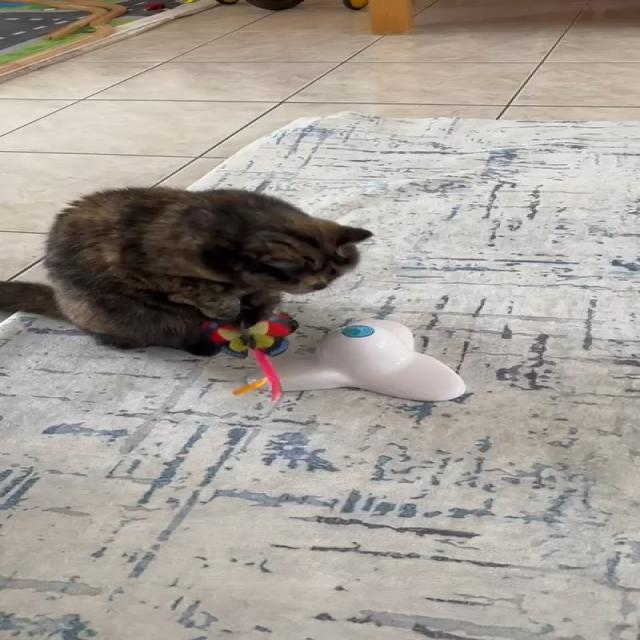authorized: (0, 185, 372, 357)
